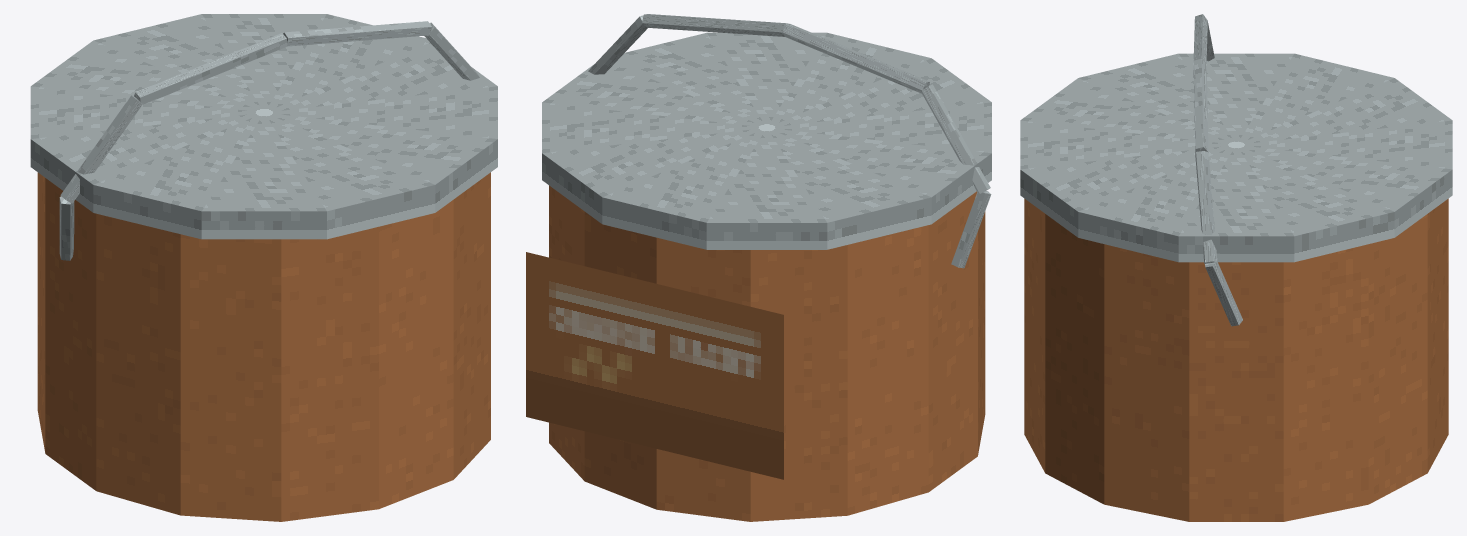
The model's file is paint_orange.glb.
The picture shows the model from 3 angles, left to right: view 1: azimuth 30°, elevation 25°; view 2: azimuth 150°, elevation 25°; view 3: azimuth 270°, elevation 25°; orthographic projection. The views are drawn at different scales.
Parts seen in each view (by area): view 1: block_body, block_paint bucket lid, block_wire carry bail 2, block_wire carry bail 3, block_wire carry bail 1, block_wire carry bail 4, block_wire carry bail 0; view 2: block_body, block_paint bucket lid, block_paint label, block_wire carry bail 2, block_wire carry bail 3, block_wire carry bail 1, block_wire carry bail 0, block_wire carry bail 4; view 3: block_body, block_paint bucket lid, block_wire carry bail 4, block_wire carry bail 3, block_wire carry bail 5, block_wire carry bail 2.
Part boxes in pixels (x1,y1,x2,y2): block_body: (37,172,490,521); block_paint bucket lid: (30,14,497,239); block_wire carry bail 2: (134,33,287,104); block_wire carry bail 3: (283,21,431,46); block_wire carry bail 1: (60,95,142,203); block_wire carry bail 4: (424,22,479,80); block_wire carry bail 0: (59,196,74,260); block_body: (549,185,985,521); block_paint bucket lid: (542,32,991,249); block_paint label: (526,252,783,479); block_wire carry bail 2: (782,23,929,93); block_wire carry bail 3: (642,14,788,36); block_wire carry bail 1: (921,84,990,193); block_wire carry bail 0: (951,191,991,268); block_wire carry bail 4: (588,15,647,74); block_body: (1024,198,1448,521); block_paint bucket lid: (1020,53,1452,262); block_wire carry bail 4: (1195,151,1217,264); block_wire carry bail 3: (1193,58,1208,152); block_wire carry bail 5: (1205,260,1242,326); block_wire carry bail 2: (1193,14,1207,63).
Size of the model in its own units: 0.2967 by 0.2663 by 0.276.
Materials: 2 (2 with a texture image).
